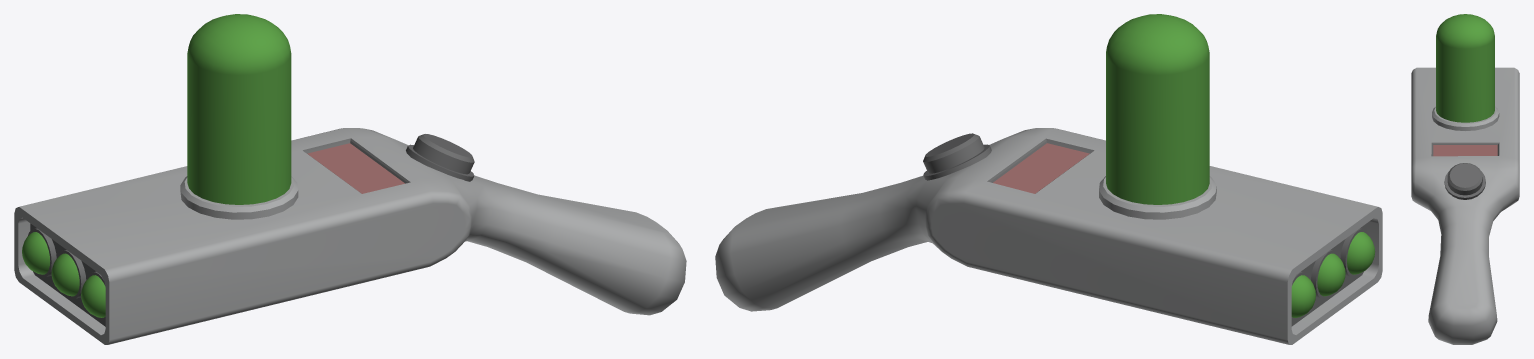
Rendered from Gun.fbx.
3 renders of one model, left to right at view 1: azimuth 30°, elevation 25°; view 2: azimuth 150°, elevation 25°; view 3: azimuth 270°, elevation 25°, orthographic. The views are drawn at different scales.
Parts seen in each view (by area): view 1: polySurface808; view 2: polySurface808; view 3: polySurface808.
Part boxes in pixels (<box>): polySurface808: <box>14,14,686,344</box>; polySurface808: <box>715,14,1382,344</box>; polySurface808: <box>1411,14,1519,344</box>.
Size of the model in its own units: 3.73 by 2.19 by 0.996.
